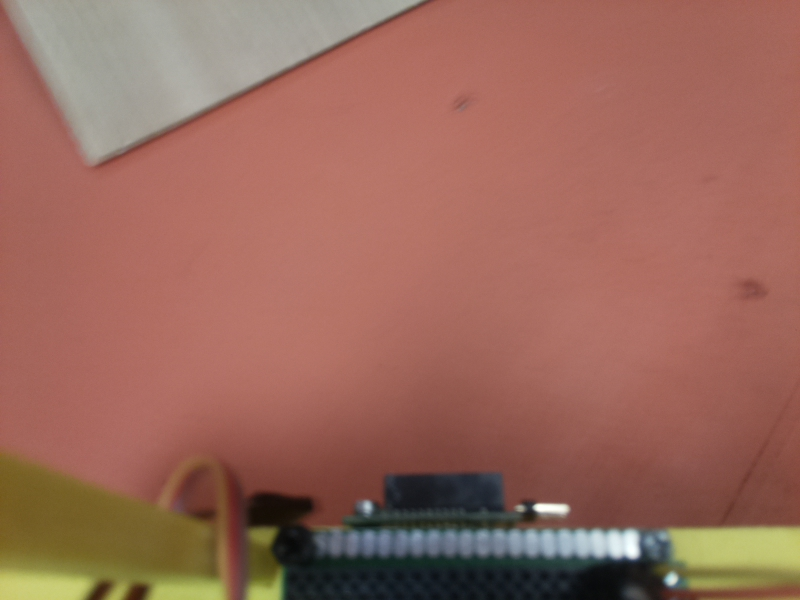slope: (6, 1, 426, 168)
